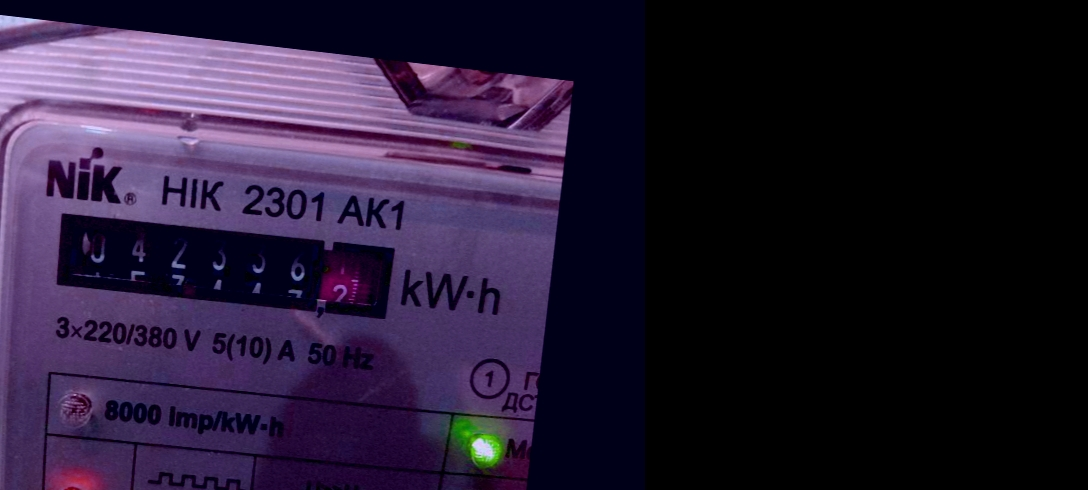0: (87, 226, 110, 263)
1: (335, 246, 351, 276)
2: (167, 232, 191, 270), (329, 279, 350, 302)
3: (208, 232, 232, 272), (246, 237, 270, 275)
4: (128, 224, 151, 263)
6: (285, 244, 311, 282)
screen: (45, 197, 405, 330)
